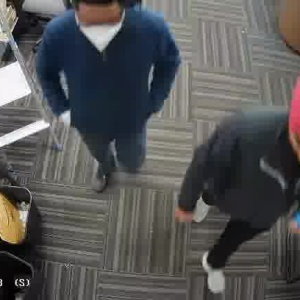person: (50, 0, 172, 184), (183, 90, 300, 270)
